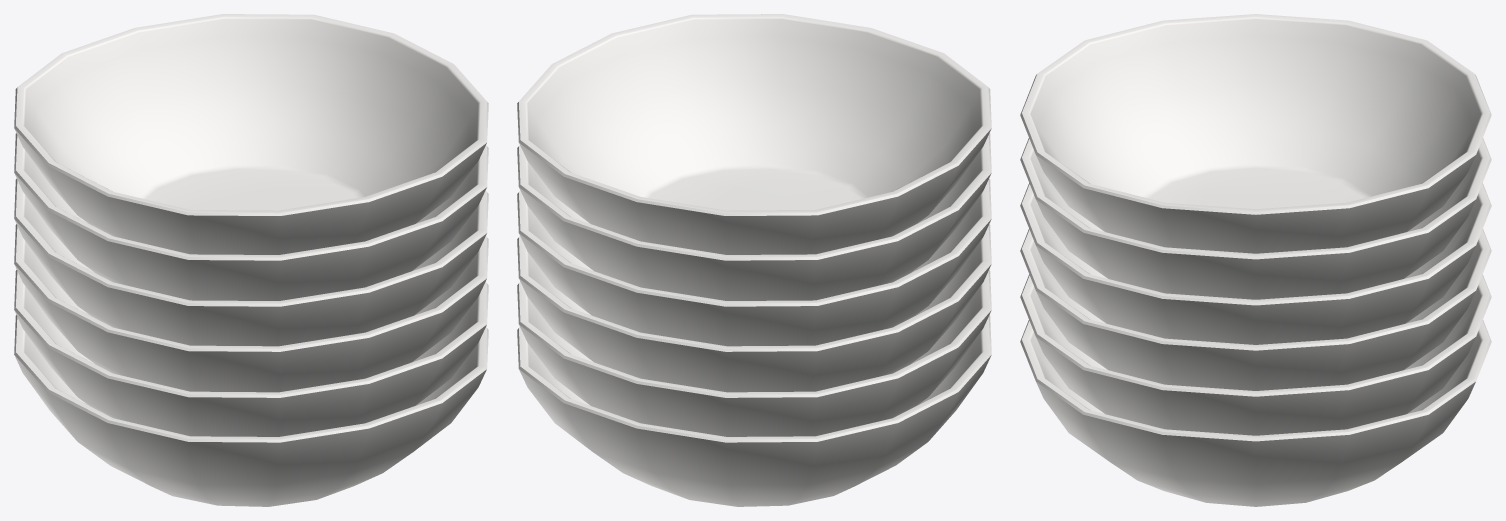
The model's file is Plates_1.glb.
The picture shows the model from 3 angles, left to right: view 1: azimuth 30°, elevation 25°; view 2: azimuth 150°, elevation 25°; view 3: azimuth 270°, elevation 25°; orthographic projection.
Visible parts, largest first — view 1: Plates_1; view 2: Plates_1; view 3: Plates_1.
Boxes of the visible parts, box(x1,y1,x2,y2) form: Plates_1: box(14, 14, 488, 506); Plates_1: box(517, 14, 991, 506); Plates_1: box(1020, 14, 1491, 506).
Size of the model in its own units: 0.2802 by 0.2243 by 0.2802.
Materials: 1 (1 with a texture image).
